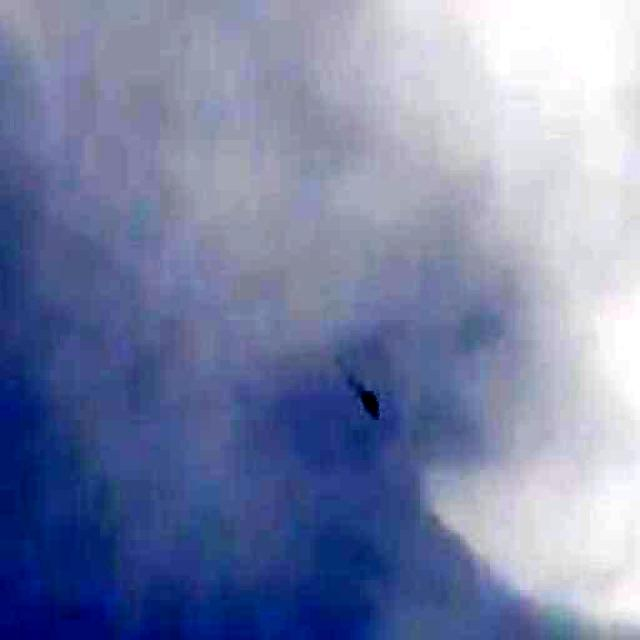drone: (338, 356, 400, 442)
